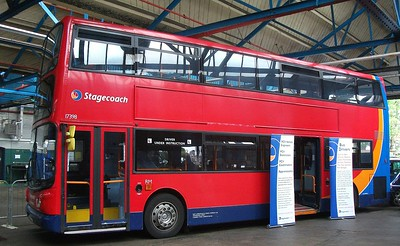bus: (25, 16, 391, 239)
